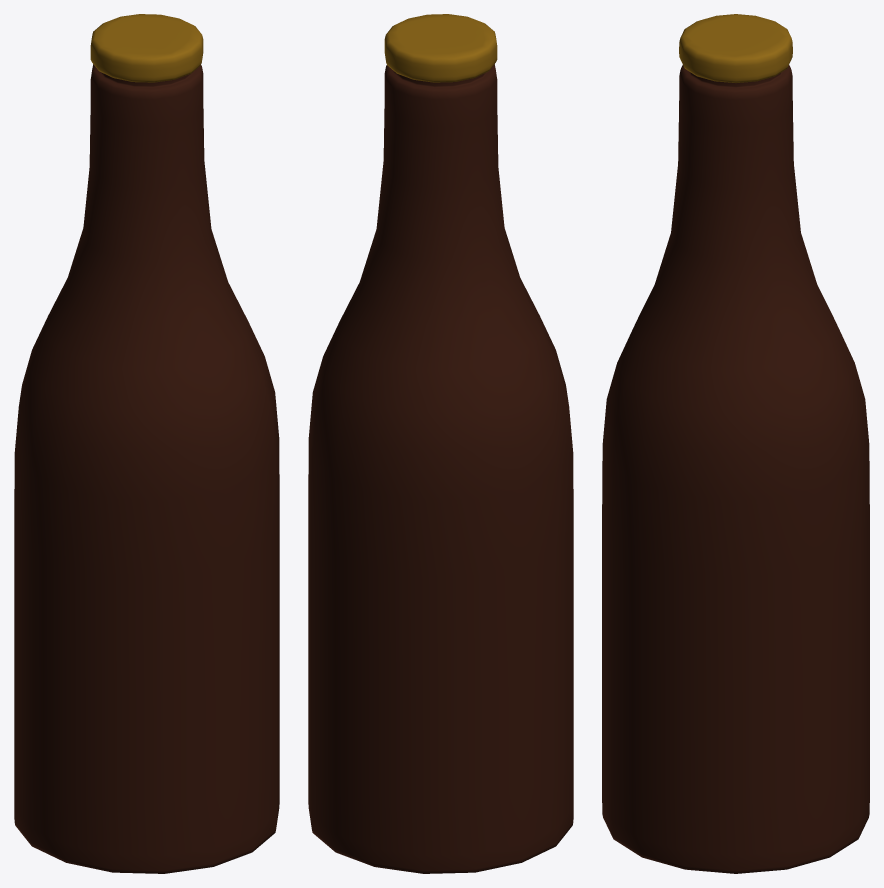
The model's file is Beer_bottle.fbx.
3 renders of one model, left to right at view 1: azimuth 30°, elevation 25°; view 2: azimuth 150°, elevation 25°; view 3: azimuth 270°, elevation 25°, orthographic.
Parts seen in each view (by area): view 1: Cylinder; view 2: Cylinder; view 3: Cylinder.
Boxes of the visible parts, x1,y1,x2,y2 form: Cylinder: [14, 14, 279, 873]; Cylinder: [308, 14, 573, 873]; Cylinder: [602, 14, 869, 873].
Size of the model in its own units: 115 by 370 by 115.
